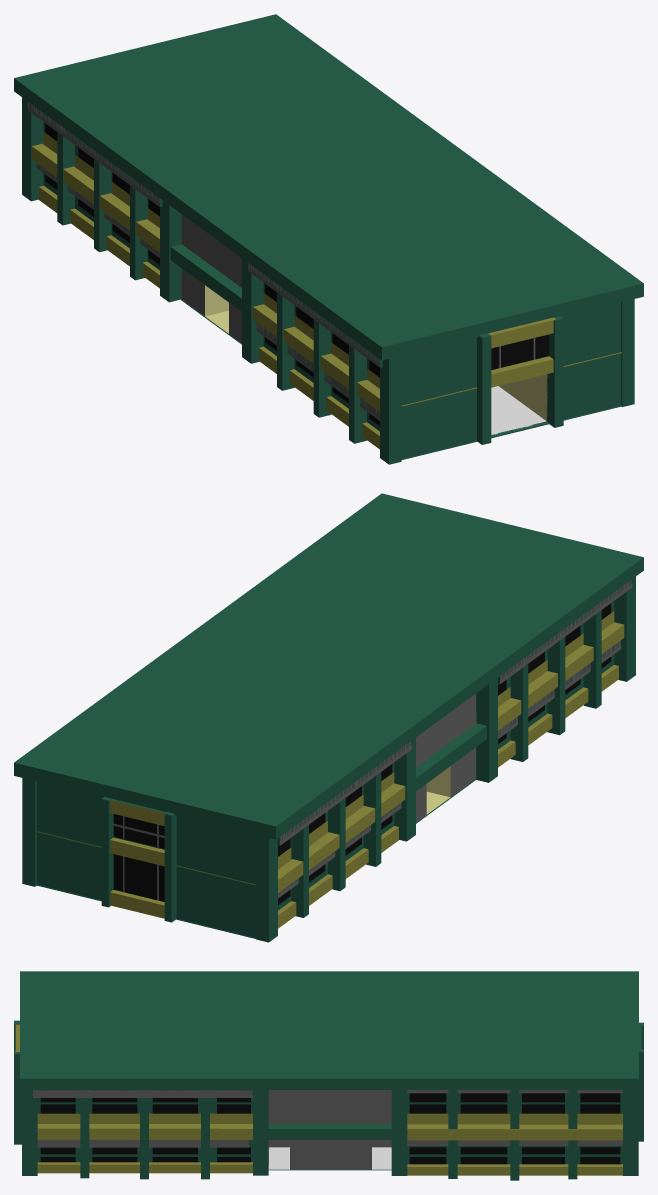
The model's file is ANABEL3.fbx.
3 renders of one model, top to bottom at view 1: azimuth 30°, elevation 25°; view 2: azimuth 150°, elevation 25°; view 3: azimuth 270°, elevation 25°, orthographic. The views are drawn at different scales.
Parts seen in each view (by area): view 1: building_001; view 2: building_001; view 3: building_001.
Part boxes in pixels (x1=…): building_001: x1=14, y1=14, x2=643, y2=464; building_001: x1=14, y1=493, x2=643, y2=942; building_001: x1=14, y1=971, x2=643, y2=1180.
Bounding box in the file's own units: 4155 × 1904 × 10279.
